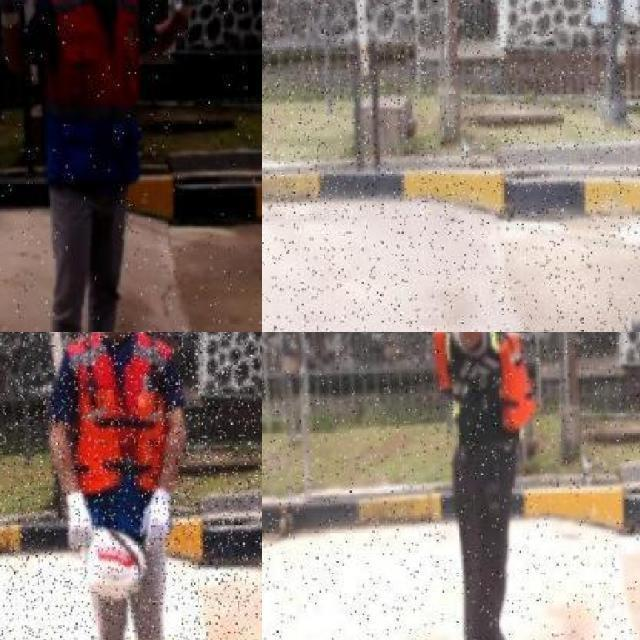apron: (140, 489, 171, 554), (64, 492, 95, 550), (0, 0, 33, 25), (170, 0, 205, 18)
